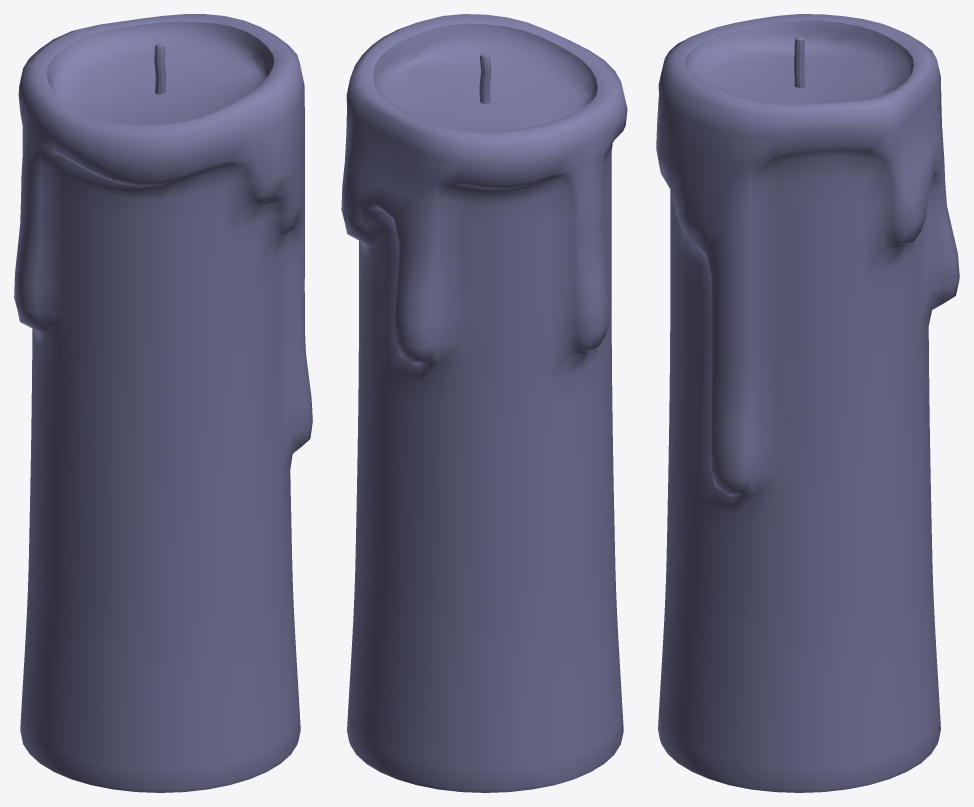
Rendered from Candle_1.fbx.
The picture shows the model from 3 angles, left to right: view 1: azimuth 30°, elevation 25°; view 2: azimuth 150°, elevation 25°; view 3: azimuth 270°, elevation 25°; orthographic projection. The views are drawn at different scales.
Parts seen in each view (by area): view 1: Cylinder038; view 2: Cylinder038; view 3: Cylinder038.
Part boxes in pixels (x1,y1,x2,y2): Cylinder038: (14, 14, 312, 792); Cylinder038: (341, 14, 627, 792); Cylinder038: (656, 14, 959, 792).
Size of the model in its own units: 6.71 by 17.61 by 6.94.
